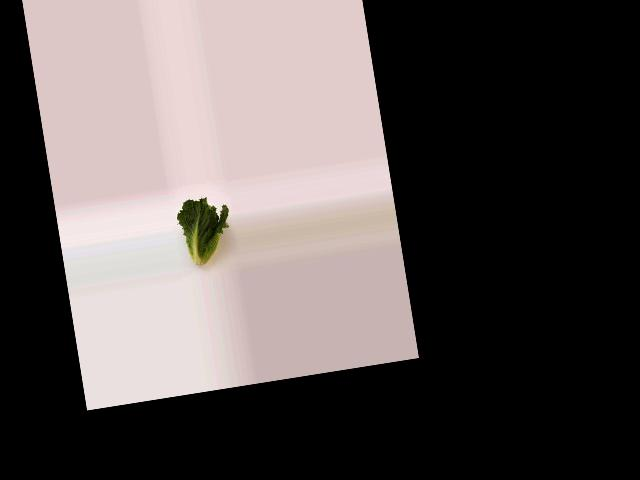lettuce: (172, 192, 235, 275)
